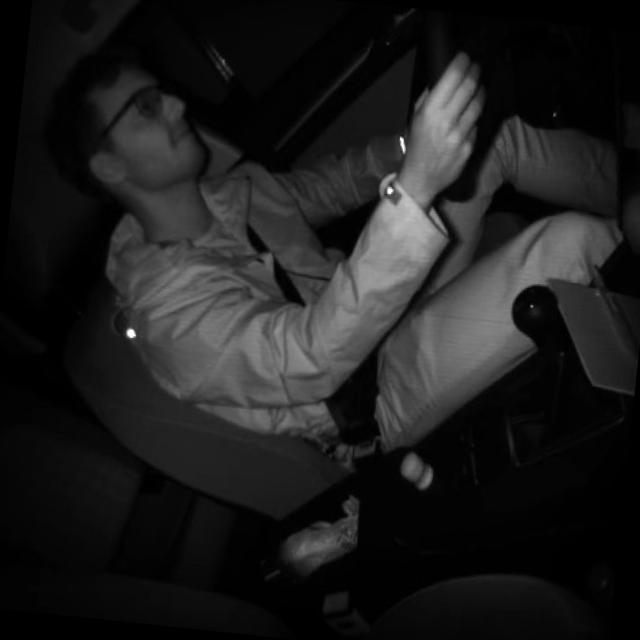pen: (578, 258, 640, 356)
